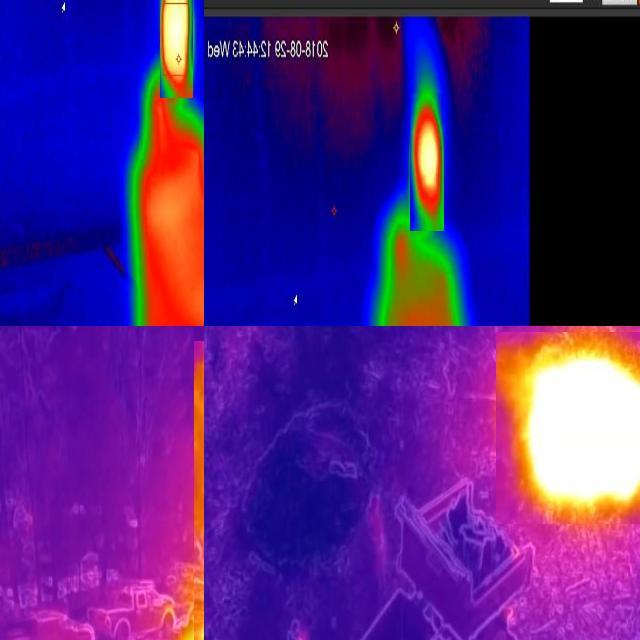fire: (496, 332, 640, 524), (410, 93, 444, 231), (160, 1, 193, 98)
